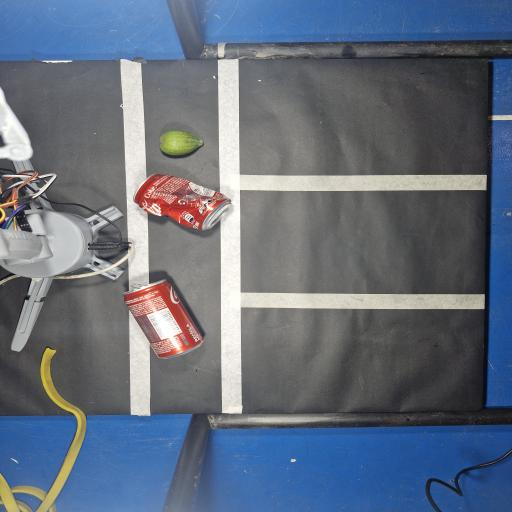higo: (159, 131, 203, 155)
lata: (124, 281, 203, 358)
lata_defectuoso: (133, 174, 231, 230)
